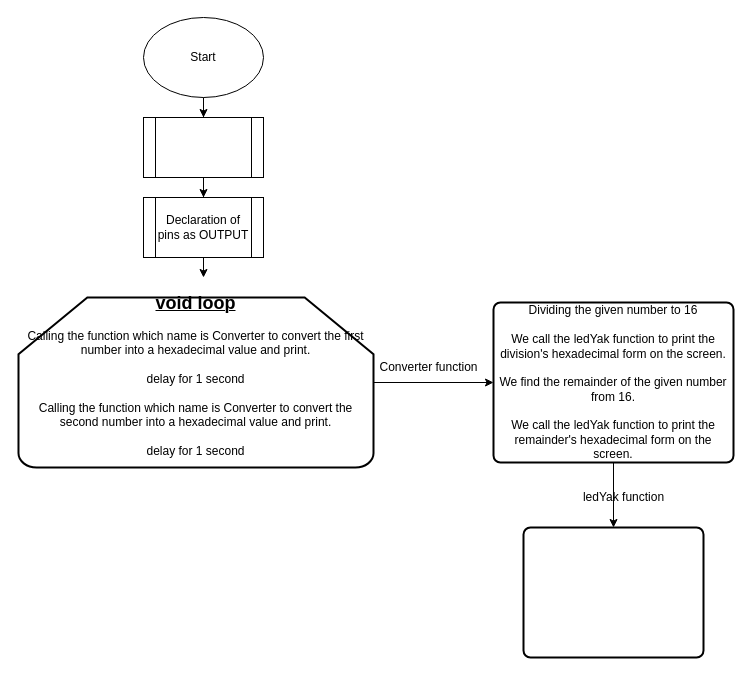
Some shapes in this 751 by 676 pixel diagram are drawn without their labels. Here are the shapes that lost their labels. From the top down, the centre of each, then its label:
At (203,147): "Declaration of Variables".
At (613,592): "Printing the given number from Converter function on display".
